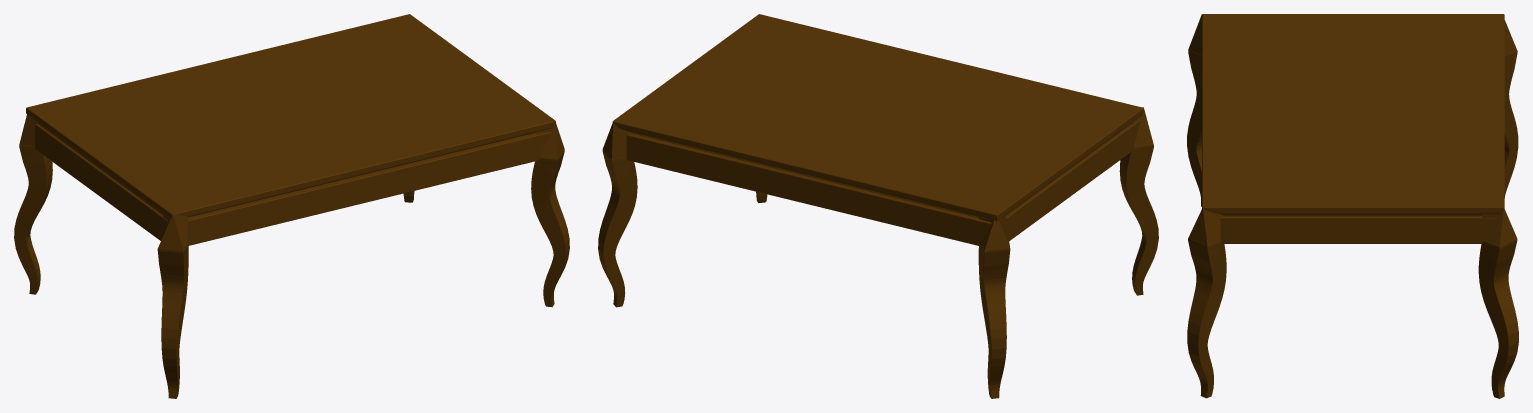
File: Main Table.fbx
3 views of the same model, side by side, from view 1: azimuth 30°, elevation 25°; view 2: azimuth 150°, elevation 25°; view 3: azimuth 270°, elevation 25° (orthographic). The views are drawn at different scales.
Parts seen in each view (by area): view 1: pCube3, pCube6, pCube2, pCube5; view 2: pCube3, pCube5, pCube4, pCube6; view 3: pCube3, pCube2, pCube4, pCube6, pCube5.
Part boxes in pixels (box(x1,y1,x2,y2)): pCube3: box(26, 14, 555, 245); pCube6: box(157, 213, 188, 398); pCube2: box(531, 123, 569, 307); pCube5: box(14, 114, 52, 294); pCube3: box(612, 14, 1143, 245); pCube5: box(978, 215, 1010, 398); pCube4: box(598, 123, 637, 307); pCube6: box(1119, 107, 1158, 295); pCube3: box(1202, 14, 1504, 243); pCube2: box(1187, 209, 1226, 398); pCube4: box(1478, 209, 1518, 398); pCube6: box(1187, 14, 1202, 206); pCube5: box(1504, 20, 1518, 197).
Size of the model in its own units: 4.71 by 2.04 by 3.21.
